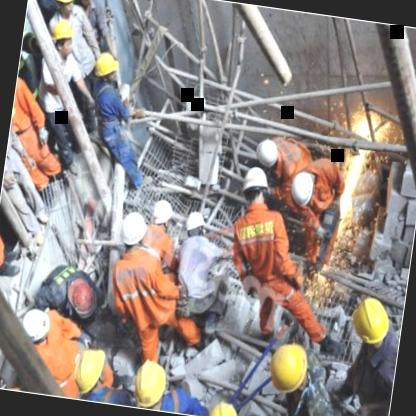helmet: (345, 290, 394, 352), (263, 337, 311, 399), (66, 344, 112, 399), (128, 353, 172, 408), (14, 304, 57, 350), (116, 207, 153, 254), (60, 272, 99, 316), (236, 163, 272, 209), (286, 167, 320, 208), (45, 19, 77, 62), (91, 49, 122, 90), (251, 137, 282, 176), (180, 206, 209, 247), (147, 194, 174, 235), (49, 0, 77, 16), (69, 0, 97, 6)
